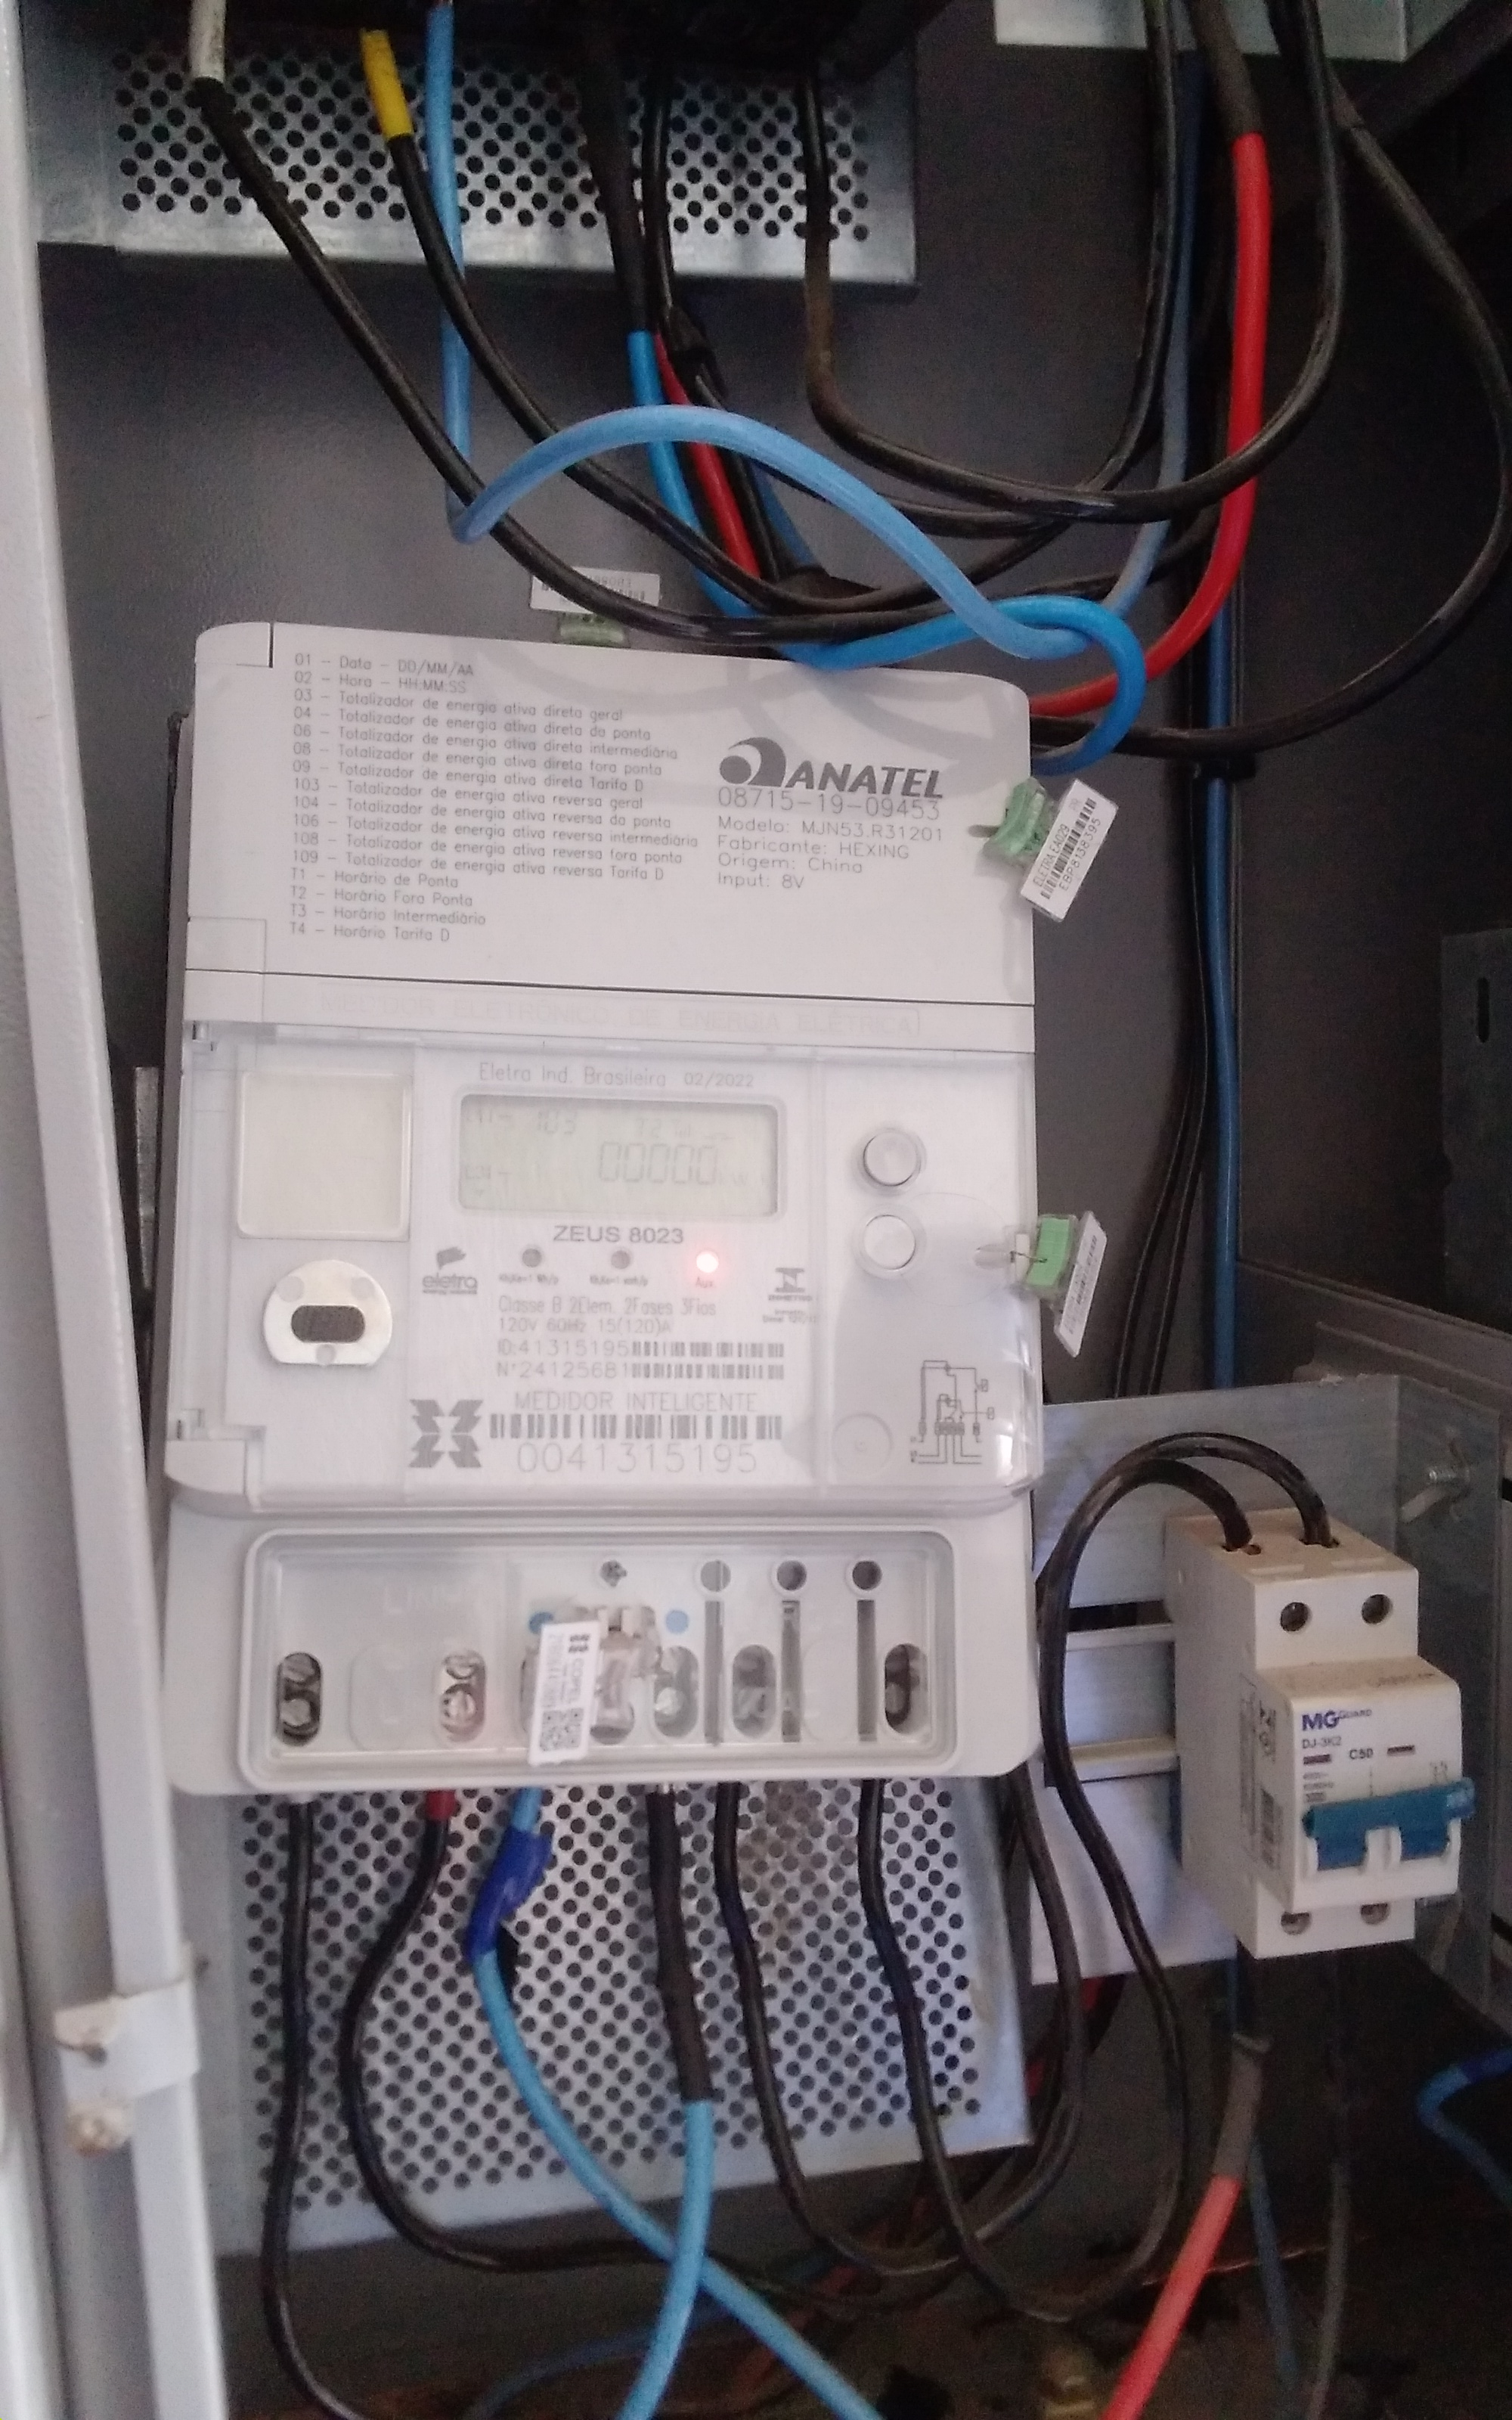disjuntor: (1164, 1507, 1474, 1958)
medidor: (160, 622, 1036, 1795)
